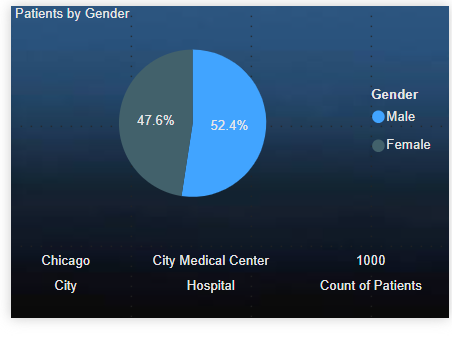

What the dashboard file says about the page in this screenshot:
{"tool":"powerbi","page":{"name":"Patients by city tooltip","canvas":[350,250],"ordinal":4},"visuals":[{"type":"pieChart","fields":{"Category":["enhanced_healthcare_data.Gender"],"Y":["CountNonNull(enhanced_healthcare_data.PatientID)"]},"box":[-2,0,352,176],"z":0},{"type":"card","fields":{"Values":["Min(enhanced_healthcare_data.City)"]},"box":[0,184,88,56],"z":1},{"type":"card","fields":{"Values":["Min(enhanced_healthcare_data.Hospital)"]},"box":[104,184,112,56],"z":4},{"type":"card","fields":{"Values":["CountNonNull(enhanced_healthcare_data.PatientID)"]},"box":[240,184,96,56],"z":5}]}

Visuals, with their boxes on the page's 350x250 design canvas (x1, y1, x2, y2). These are canvas units, not pixel positions in the 452x355 screenshot, which may show the page scaled, cropped or inside an application window:
pieChart - enhanced_healthcare_data.Gender x CountNonNull(enhanced_healthcare_data.PatientID): Rect(-2, 0, 350, 176)
card - Min(enhanced_healthcare_data.City): Rect(0, 184, 88, 240)
card - Min(enhanced_healthcare_data.Hospital): Rect(104, 184, 216, 240)
card - CountNonNull(enhanced_healthcare_data.PatientID): Rect(240, 184, 336, 240)
